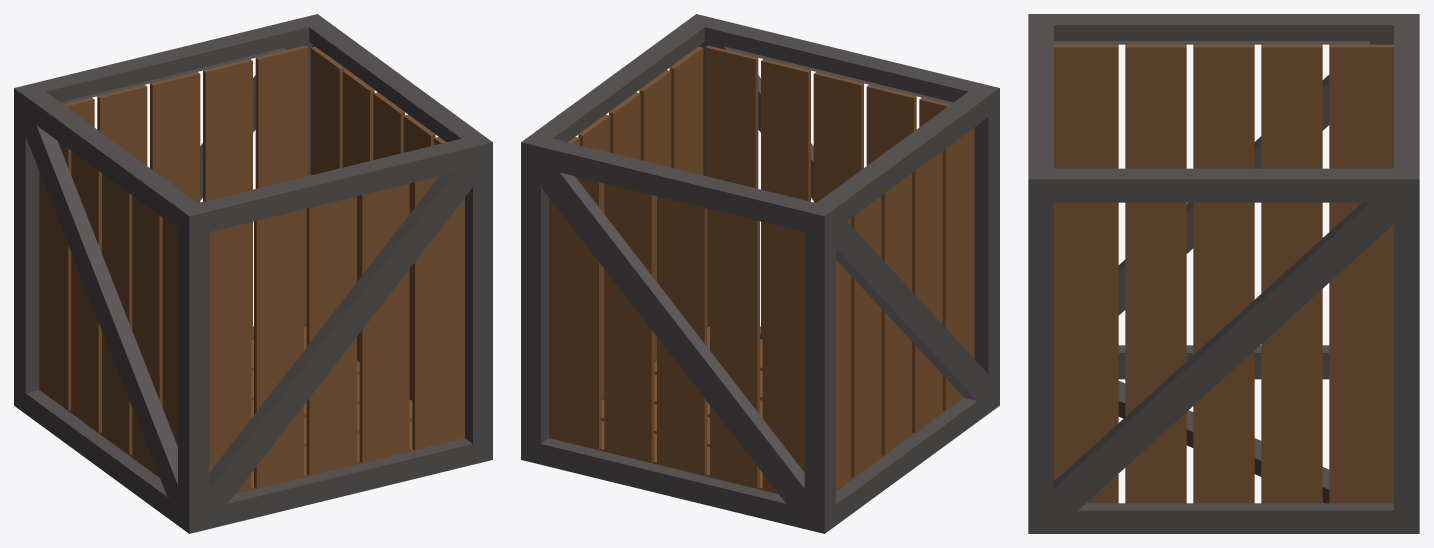
3 views of the same model, side by side, from view 1: azimuth 30°, elevation 25°; view 2: azimuth 150°, elevation 25°; view 3: azimuth 270°, elevation 25° (orthographic). The views are drawn at different scales.
Visible parts, largest first — view 1: Planks03, WpcLidOff, Planks04; view 2: Planks03, WpcLidOff, Planks04; view 3: Planks03, WpcLidOff, Planks04.
Boxes of the visible parts, x1=… form: Planks03: x1=39, y1=45, x2=464, y2=493; WpcLidOff: x1=14, y1=14, x2=492, y2=533; Planks04: x1=25, y1=42, x2=472, y2=507; Planks03: x1=549, y1=45, x2=974, y2=493; WpcLidOff: x1=521, y1=14, x2=999, y2=533; Planks04: x1=541, y1=42, x2=988, y2=507; Planks03: x1=1054, y1=44, x2=1393, y2=503; WpcLidOff: x1=1028, y1=14, x2=1419, y2=533; Planks04: x1=1054, y1=41, x2=1393, y2=510.
Size of what is drawn, in the model's own units: 0.84 by 0.84 by 0.84.
1 material, 1 textured.
